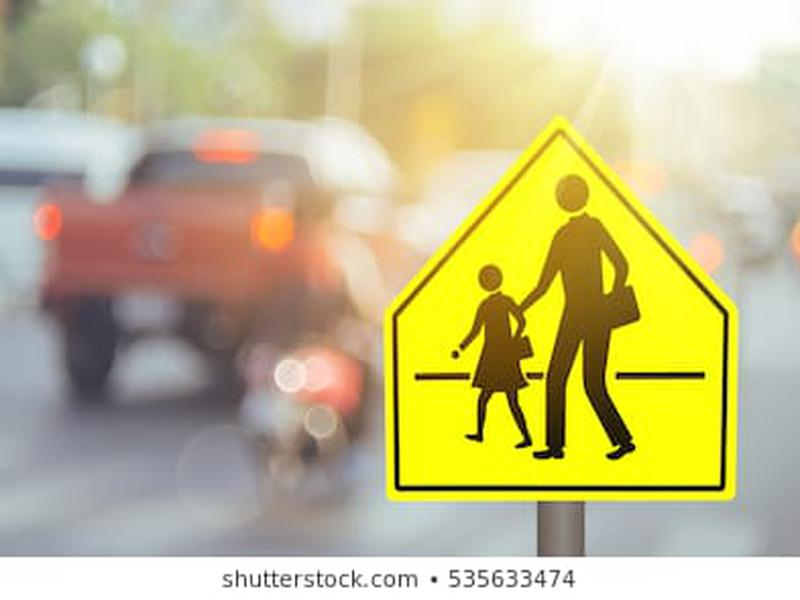slow: (380, 112, 740, 500)
